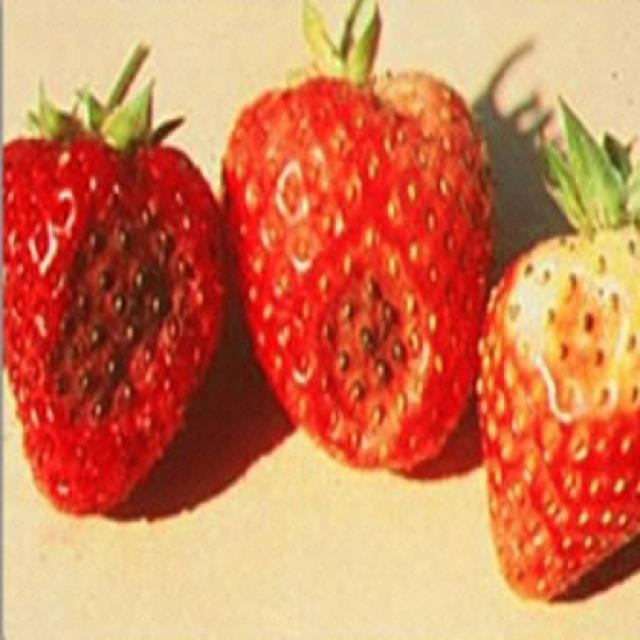Anthracnose Fruit Rot: (39, 185, 197, 426), (489, 233, 640, 431), (312, 253, 434, 448)
